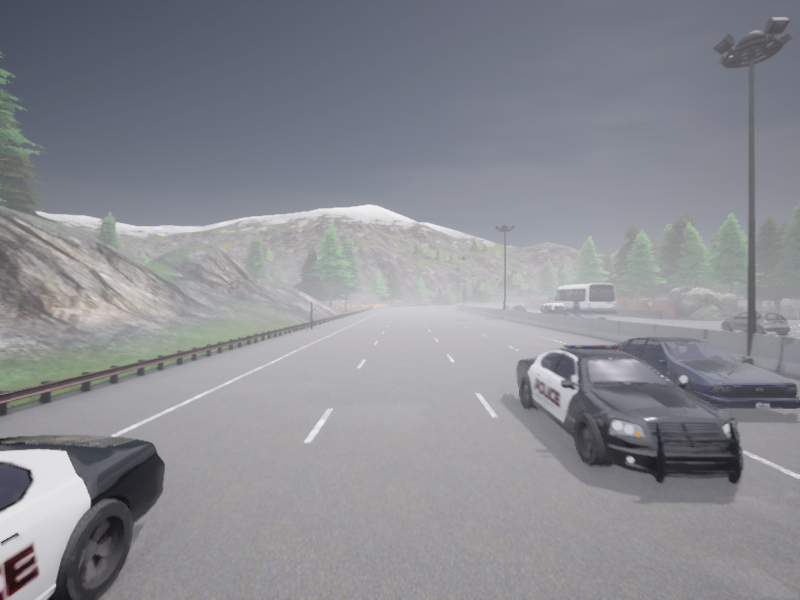vehicle: (515, 344, 743, 483), (0, 435, 164, 599), (610, 336, 799, 407), (551, 283, 616, 318), (722, 311, 789, 335), (540, 303, 566, 314), (513, 305, 525, 311), (500, 305, 512, 309)
